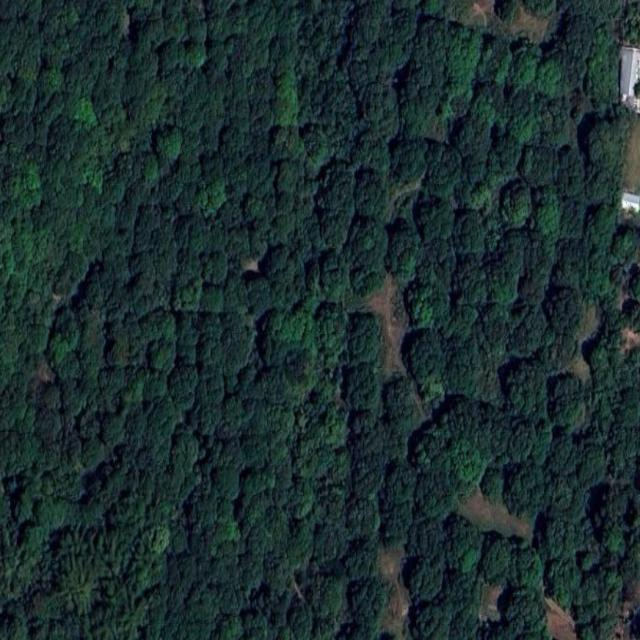Tree: (444, 398, 513, 462), (317, 164, 356, 251), (216, 303, 256, 385), (440, 29, 477, 110), (507, 302, 552, 366), (503, 358, 545, 426), (444, 515, 484, 583), (256, 364, 312, 412), (351, 221, 387, 295), (412, 468, 459, 524), (362, 85, 402, 150), (266, 249, 306, 313), (380, 378, 423, 437), (400, 61, 443, 117), (314, 299, 348, 367), (502, 540, 544, 594), (405, 330, 443, 389), (458, 116, 494, 178), (207, 222, 255, 268), (222, 160, 280, 198), (586, 117, 626, 172), (589, 42, 619, 115), (309, 251, 351, 303), (384, 228, 422, 285), (347, 129, 393, 176), (266, 306, 316, 349), (351, 584, 392, 636), (365, 37, 406, 89), (505, 466, 543, 522), (419, 240, 459, 293), (426, 140, 463, 197), (477, 36, 516, 89), (581, 167, 624, 215), (351, 448, 389, 502), (540, 514, 580, 565), (446, 342, 481, 399), (345, 531, 380, 587), (476, 310, 510, 367), (414, 195, 456, 241), (507, 590, 547, 638), (35, 0, 79, 43), (356, 169, 391, 223), (437, 300, 478, 346), (341, 366, 381, 411), (89, 74, 129, 119), (520, 237, 558, 284), (151, 166, 188, 214), (411, 426, 451, 470), (468, 167, 506, 213), (383, 0, 421, 46), (82, 2, 128, 40), (477, 534, 509, 588), (546, 558, 578, 612), (296, 443, 338, 484), (394, 142, 429, 191), (548, 379, 583, 428), (410, 557, 444, 607), (242, 69, 274, 122), (554, 252, 590, 298), (410, 23, 446, 69), (497, 234, 530, 284), (478, 85, 513, 132), (349, 0, 384, 47), (235, 467, 278, 505), (351, 404, 385, 452), (545, 290, 582, 334), (404, 519, 441, 563), (346, 496, 383, 540), (47, 114, 78, 166), (350, 316, 382, 366), (76, 268, 104, 325), (489, 135, 522, 183), (151, 407, 187, 451), (408, 280, 437, 334), (0, 110, 37, 152), (545, 106, 578, 153), (533, 55, 568, 99), (382, 504, 412, 555), (437, 568, 470, 614), (416, 598, 452, 640), (173, 315, 202, 367), (521, 143, 553, 190), (320, 403, 350, 453), (448, 440, 482, 484), (196, 362, 227, 410), (509, 44, 542, 89), (453, 265, 487, 308), (288, 518, 314, 574), (532, 196, 562, 244), (134, 205, 166, 250), (577, 446, 608, 492), (316, 576, 347, 622), (188, 582, 219, 628), (509, 419, 538, 468), (274, 77, 303, 126), (586, 252, 616, 299), (455, 214, 486, 258), (487, 265, 518, 309), (503, 178, 531, 226), (557, 149, 585, 197), (169, 364, 197, 411), (217, 392, 245, 439), (194, 182, 230, 218), (98, 251, 134, 287), (540, 476, 570, 519), (137, 20, 167, 63), (383, 464, 414, 505), (588, 206, 619, 247), (266, 402, 296, 444), (198, 318, 222, 370), (267, 507, 293, 555), (178, 214, 209, 254), (244, 278, 272, 322), (100, 368, 128, 412), (128, 276, 158, 317), (235, 553, 268, 590), (106, 323, 135, 365), (274, 9, 303, 51), (154, 124, 186, 162), (573, 581, 601, 624), (300, 128, 329, 169), (311, 0, 348, 32), (152, 70, 184, 107), (188, 488, 219, 526), (244, 121, 271, 164), (173, 426, 199, 470), (99, 412, 129, 450), (40, 32, 70, 70), (63, 18, 90, 60), (46, 331, 80, 364), (173, 278, 205, 313), (513, 108, 541, 148), (248, 12, 279, 48), (197, 98, 228, 134), (319, 526, 346, 567), (68, 65, 95, 106), (290, 595, 315, 639), (273, 44, 301, 83), (326, 83, 357, 118), (210, 466, 240, 502), (147, 518, 172, 561), (265, 208, 293, 246), (178, 84, 205, 123), (546, 436, 571, 478), (200, 250, 228, 287), (80, 48, 114, 78), (66, 249, 92, 288), (81, 435, 106, 475), (213, 610, 246, 640), (272, 123, 298, 161), (206, 63, 230, 104), (298, 55, 326, 90), (107, 45, 134, 81), (142, 370, 170, 404), (294, 480, 319, 518), (331, 121, 353, 164), (327, 453, 353, 489), (39, 412, 64, 449), (128, 64, 153, 101), (567, 484, 590, 524), (72, 97, 99, 131), (198, 402, 222, 440), (250, 521, 274, 559), (263, 436, 289, 471), (518, 274, 548, 304), (197, 288, 225, 320), (240, 407, 268, 439), (217, 126, 244, 159), (150, 310, 178, 341), (29, 207, 60, 235), (150, 341, 176, 374), (618, 389, 640, 428), (196, 127, 222, 160), (243, 42, 269, 75), (481, 470, 506, 504), (163, 42, 188, 76), (241, 435, 266, 469), (202, 40, 230, 70), (220, 582, 245, 615), (560, 202, 584, 236), (134, 0, 163, 28), (586, 338, 608, 374), (216, 513, 240, 546), (169, 524, 193, 557), (117, 151, 143, 181), (615, 222, 637, 257), (166, 14, 190, 46), (126, 374, 148, 408), (181, 126, 203, 160), (202, 436, 226, 467), (254, 220, 272, 261), (345, 58, 368, 90), (241, 195, 267, 223), (130, 249, 158, 275), (246, 610, 270, 640), (140, 152, 162, 184), (228, 37, 250, 69), (226, 68, 248, 100), (16, 493, 36, 528), (303, 85, 327, 114), (104, 180, 130, 206), (12, 87, 37, 114), (42, 380, 64, 410), (238, 370, 258, 402), (272, 596, 295, 623), (532, 431, 550, 465), (268, 566, 289, 595), (202, 156, 222, 186), (187, 42, 207, 72), (215, 493, 237, 520), (278, 162, 297, 192), (274, 188, 294, 216), (189, 15, 209, 43), (134, 449, 155, 475), (52, 211, 71, 239), (38, 70, 62, 92), (10, 217, 32, 241), (624, 298, 640, 330), (59, 354, 82, 376), (309, 36, 327, 61), (328, 67, 347, 90), (608, 264, 626, 286), (276, 621, 296, 640), (327, 34, 344, 56), (423, 2, 445, 18), (84, 187, 100, 209), (133, 412, 148, 435), (629, 267, 640, 295), (78, 202, 93, 220)
